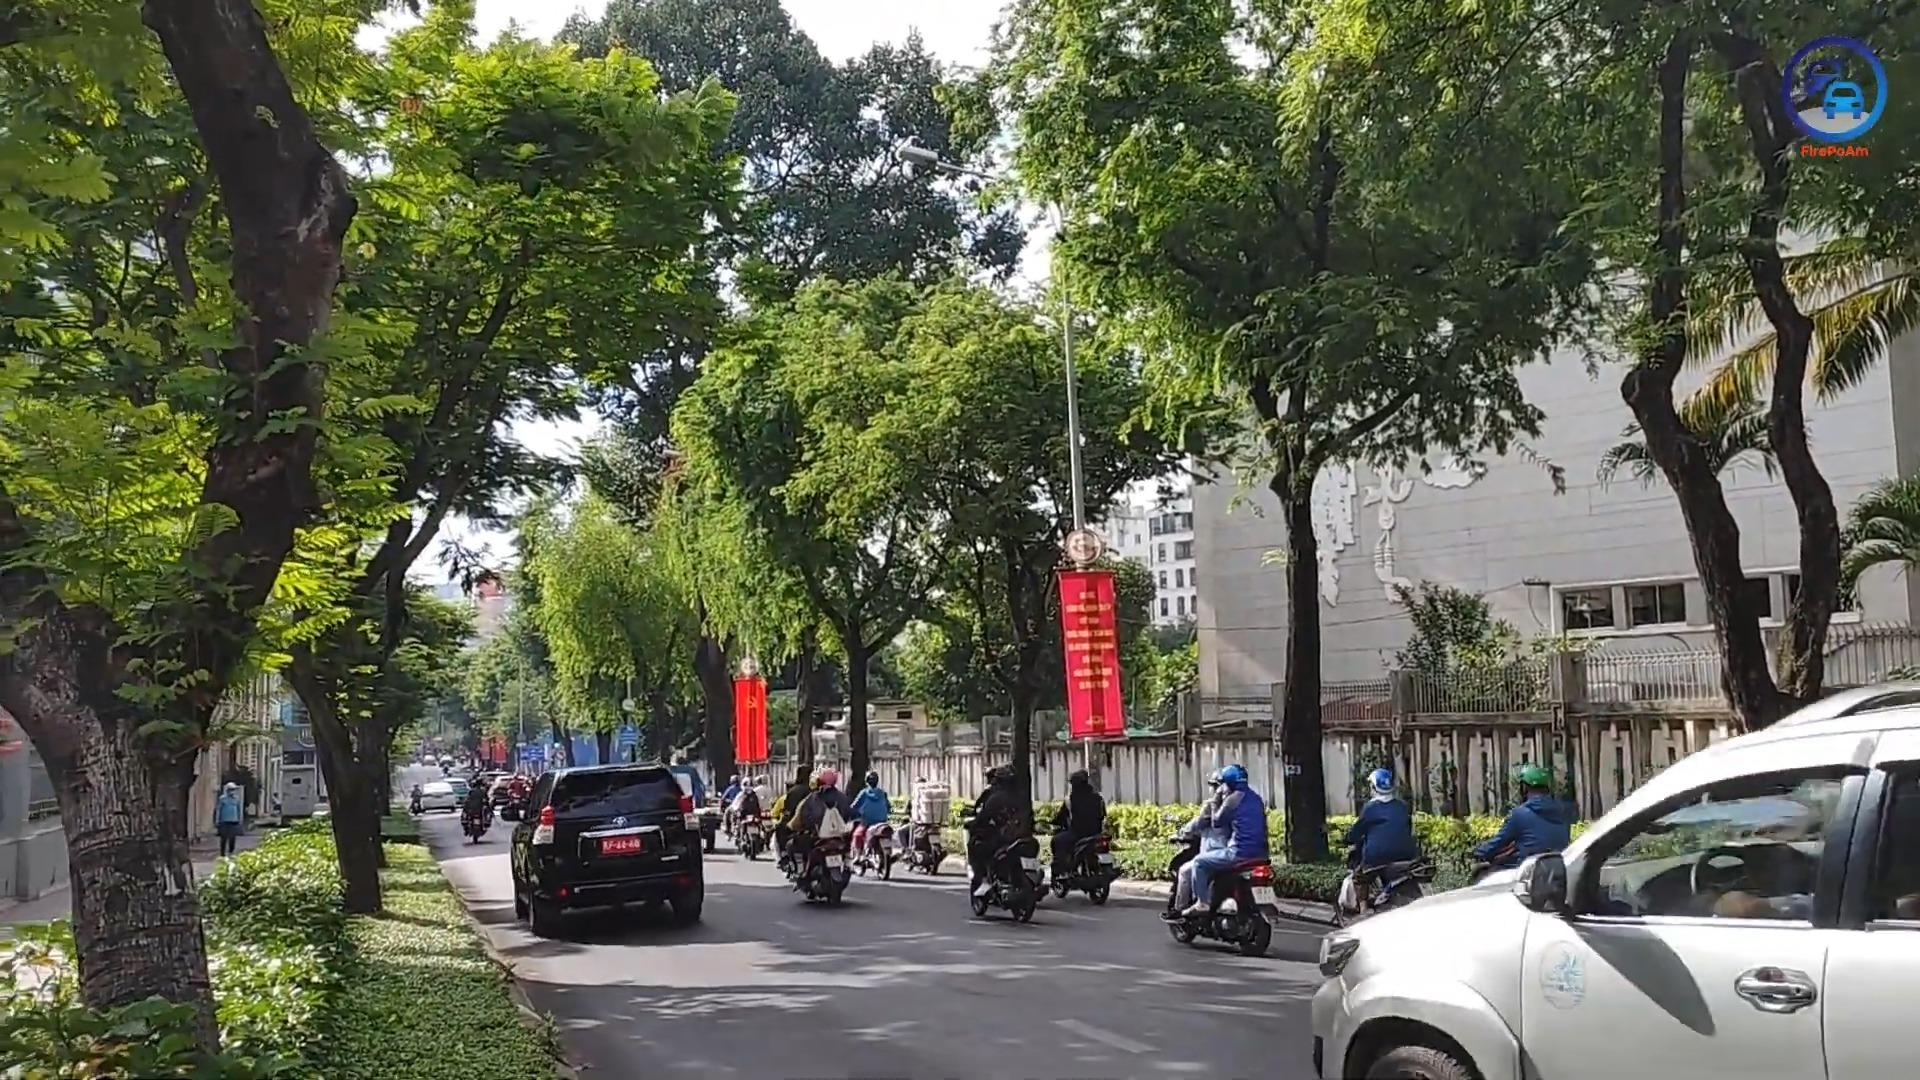bien_so: (599, 834, 642, 856), (1251, 885, 1280, 906)
